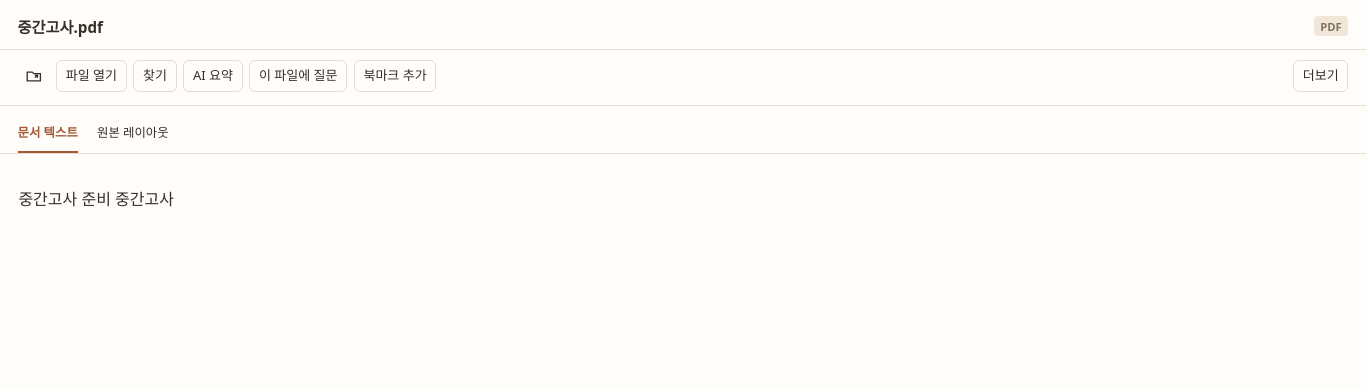
Scenario: secure document preview › shows AI actions only when enabled and runs an Ollama summary
The image size is (1366, 388).
Check: the text "중간고사.pdf" is shown, box [18,17,103,37]
Click the button "AI 요약" at (213,76), box [183,60,243,92]
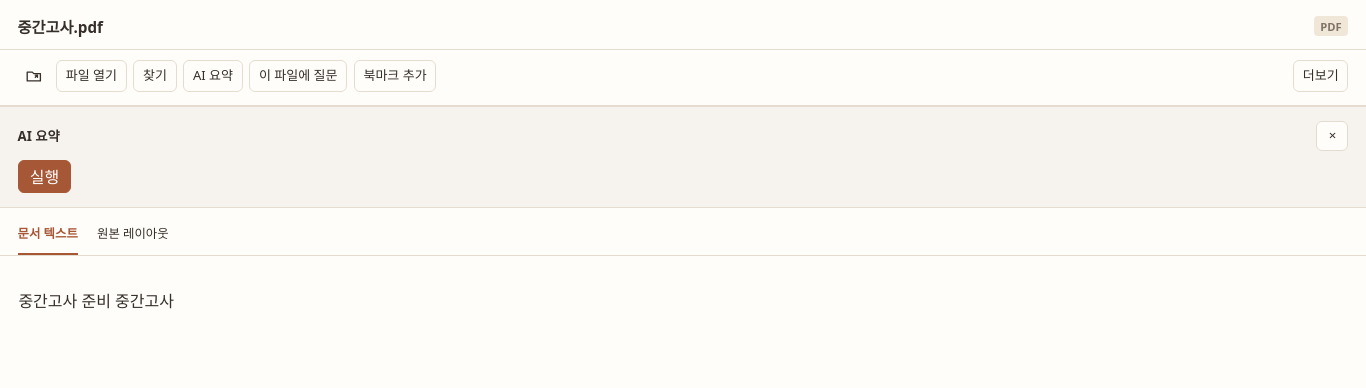
Check: the element named "문서 AI" is shown, box [0,106,1365,208]
Click the button "실행" at (44,177), box [18,160,71,193]
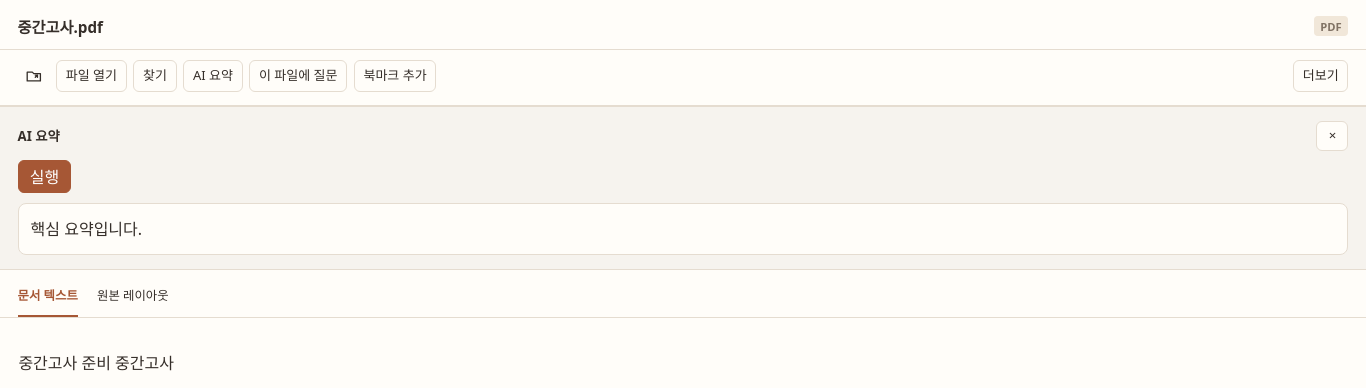
Check: the text "핵심 요약입니다." is shown, box [18,203,1348,255]
